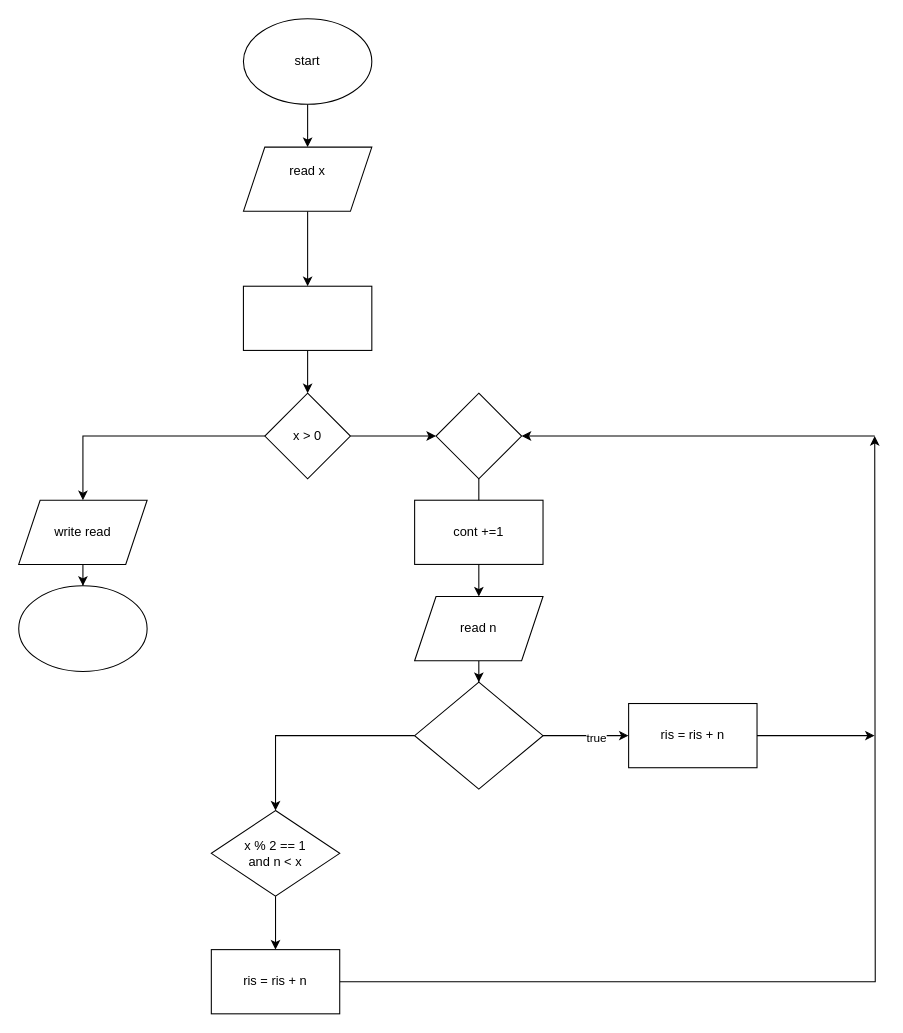
Some shapes in this 903 by 1033 pixel diagram are drawn without their labels. The centre of each missing label's shape, as x and y in pixels:
"cont == 10" goes at (x=478, y=435).
"end" goes at (x=82, y=628).
"ris = 0 cont = 0" goes at (x=307, y=317).
"x % 2 == 0 and n > x / 2" goes at (x=478, y=735).
